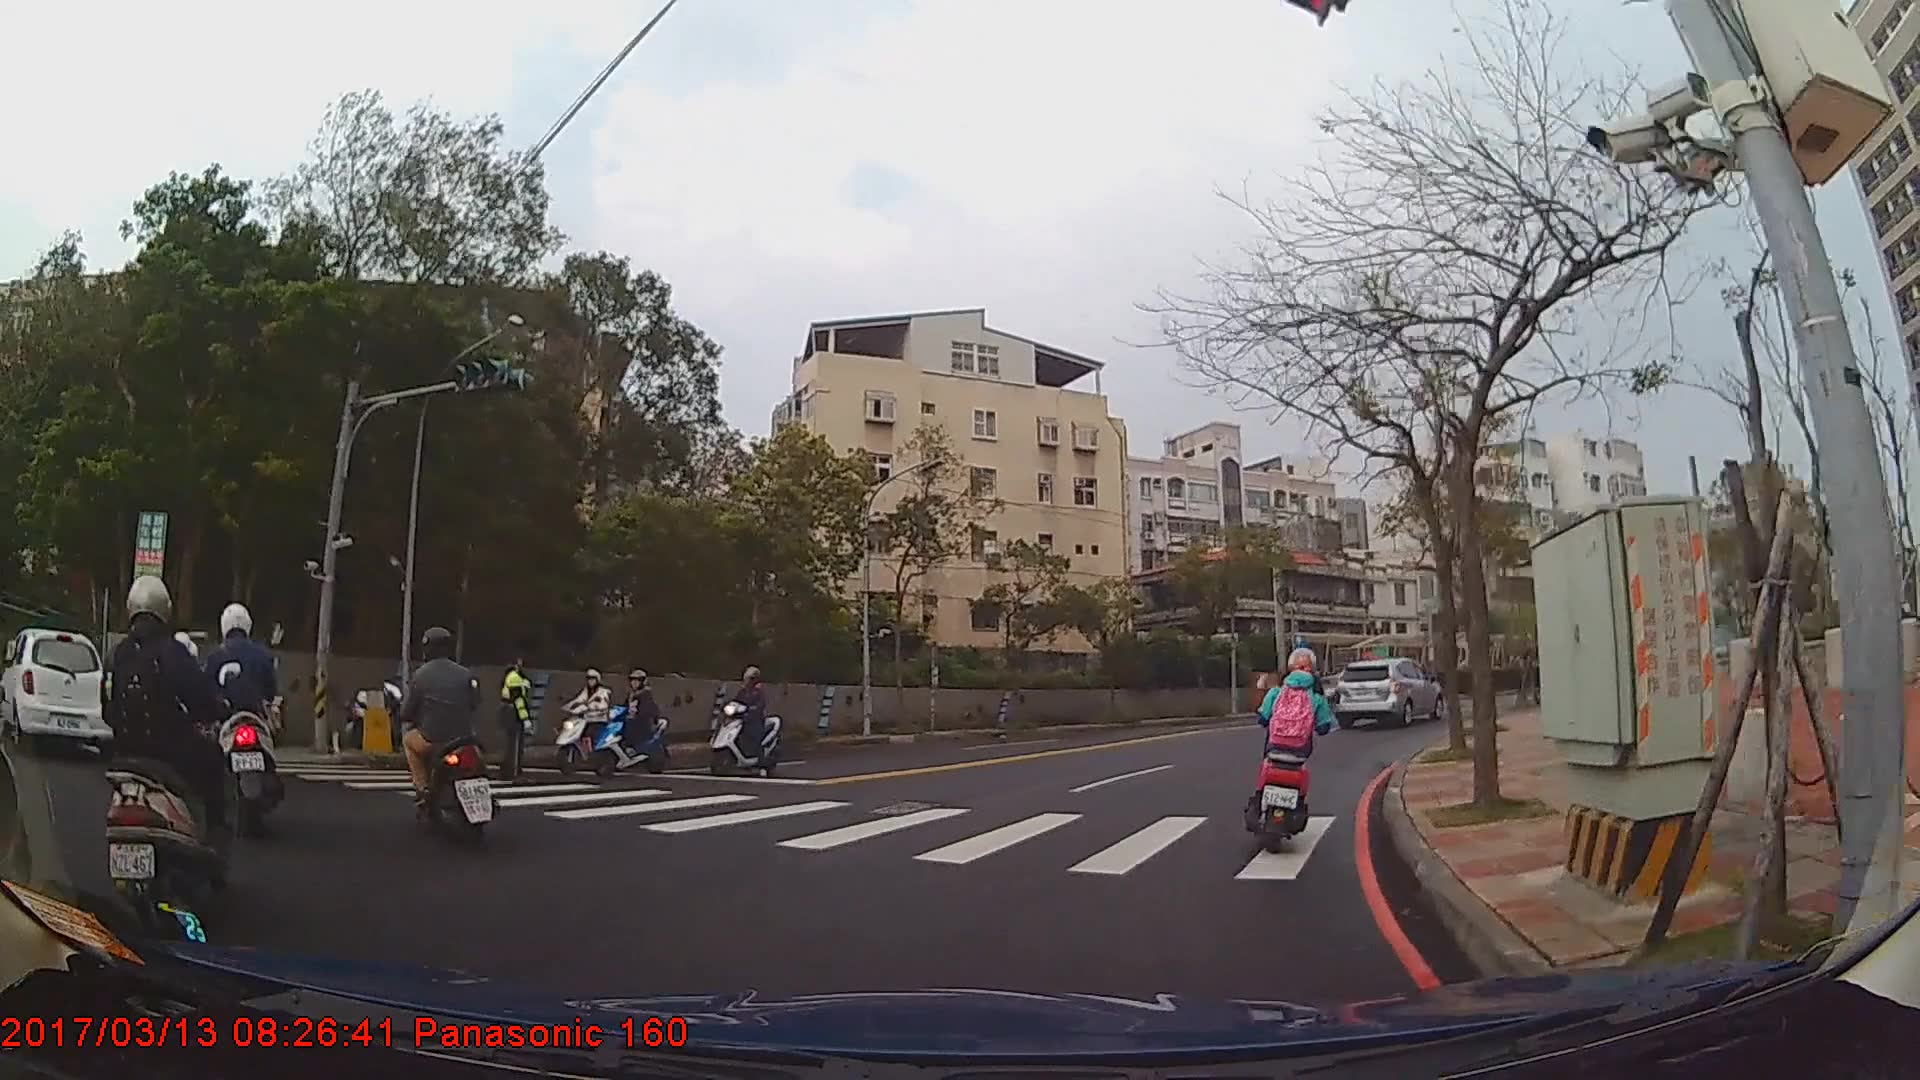pedestrian: (490, 655, 533, 789)
rider: (99, 575, 240, 932), (386, 627, 500, 852), (202, 605, 288, 843), (1250, 646, 1334, 847), (707, 671, 782, 780), (594, 671, 666, 778), (555, 673, 622, 774)
vehicle: (0, 626, 115, 754), (1332, 659, 1444, 730)
